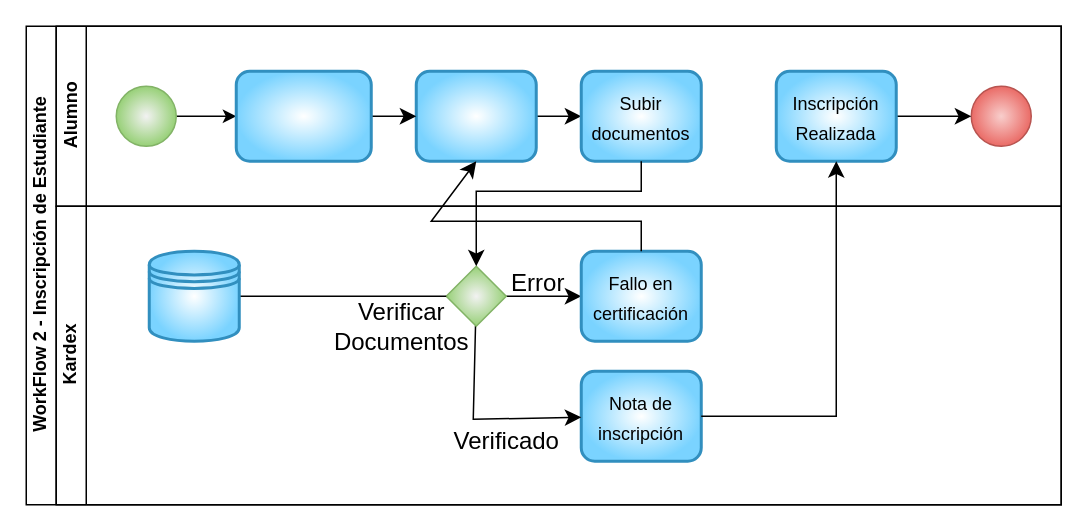
The diagram is 1088 pixels wide and 531 high, and some of its shapes have lost their labels. Here are the shapes that lost their labels. From the top down, the centre of each, then its label:
At [303,115]: "Prerequisitos para la inscripción".
At [475,115]: "Alistar documentos".
At [193,295]: "Datos Estudiante".
